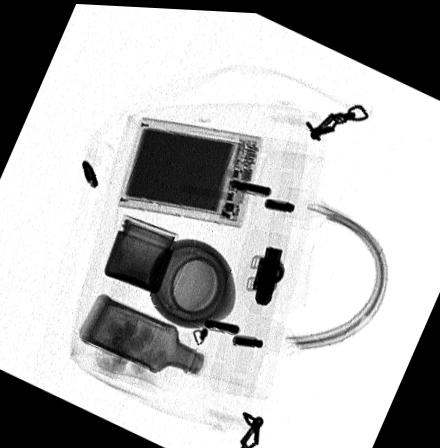Powerbank: (117, 112, 263, 226)
